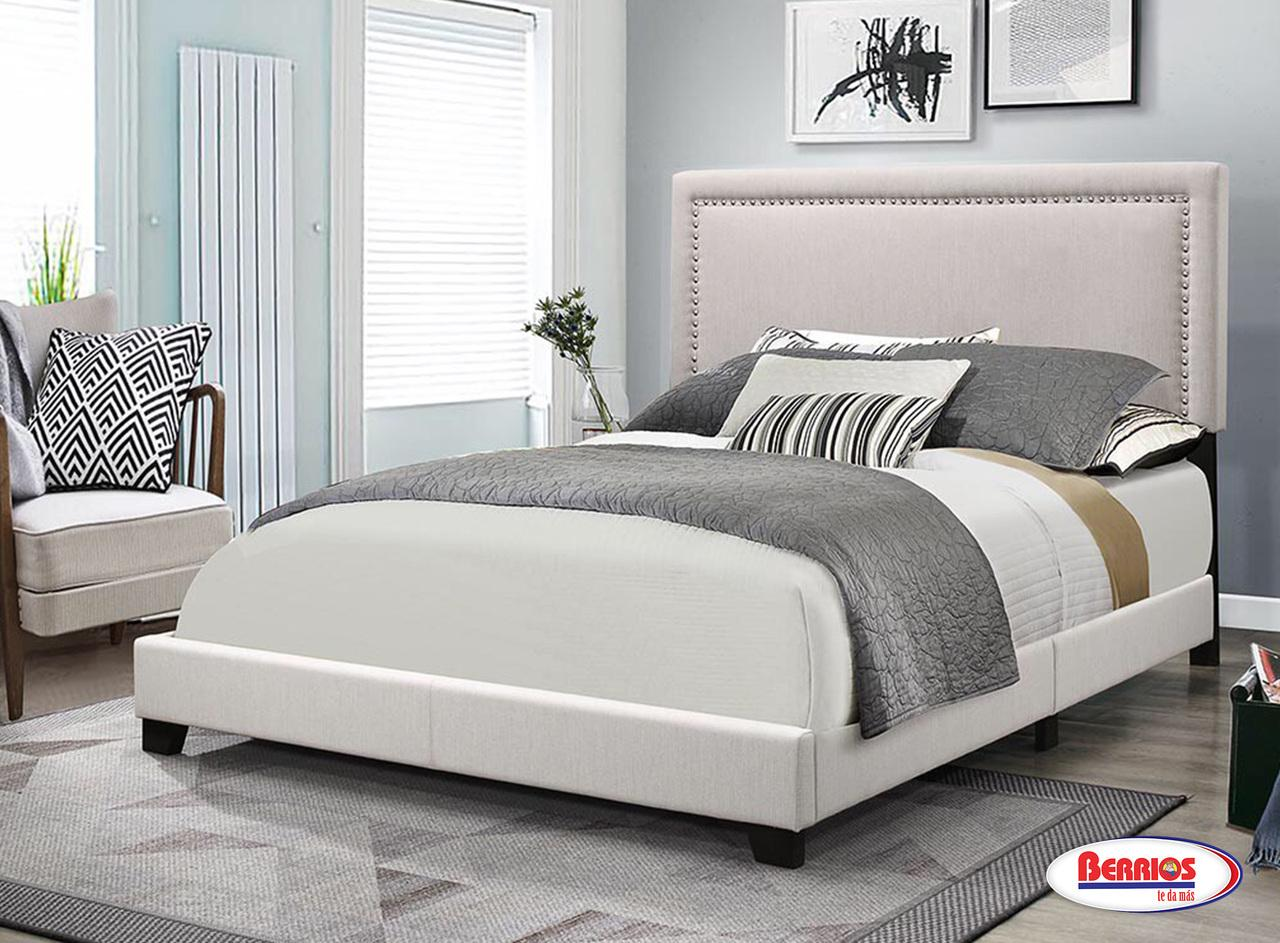bed: (224, 332, 1180, 636)
